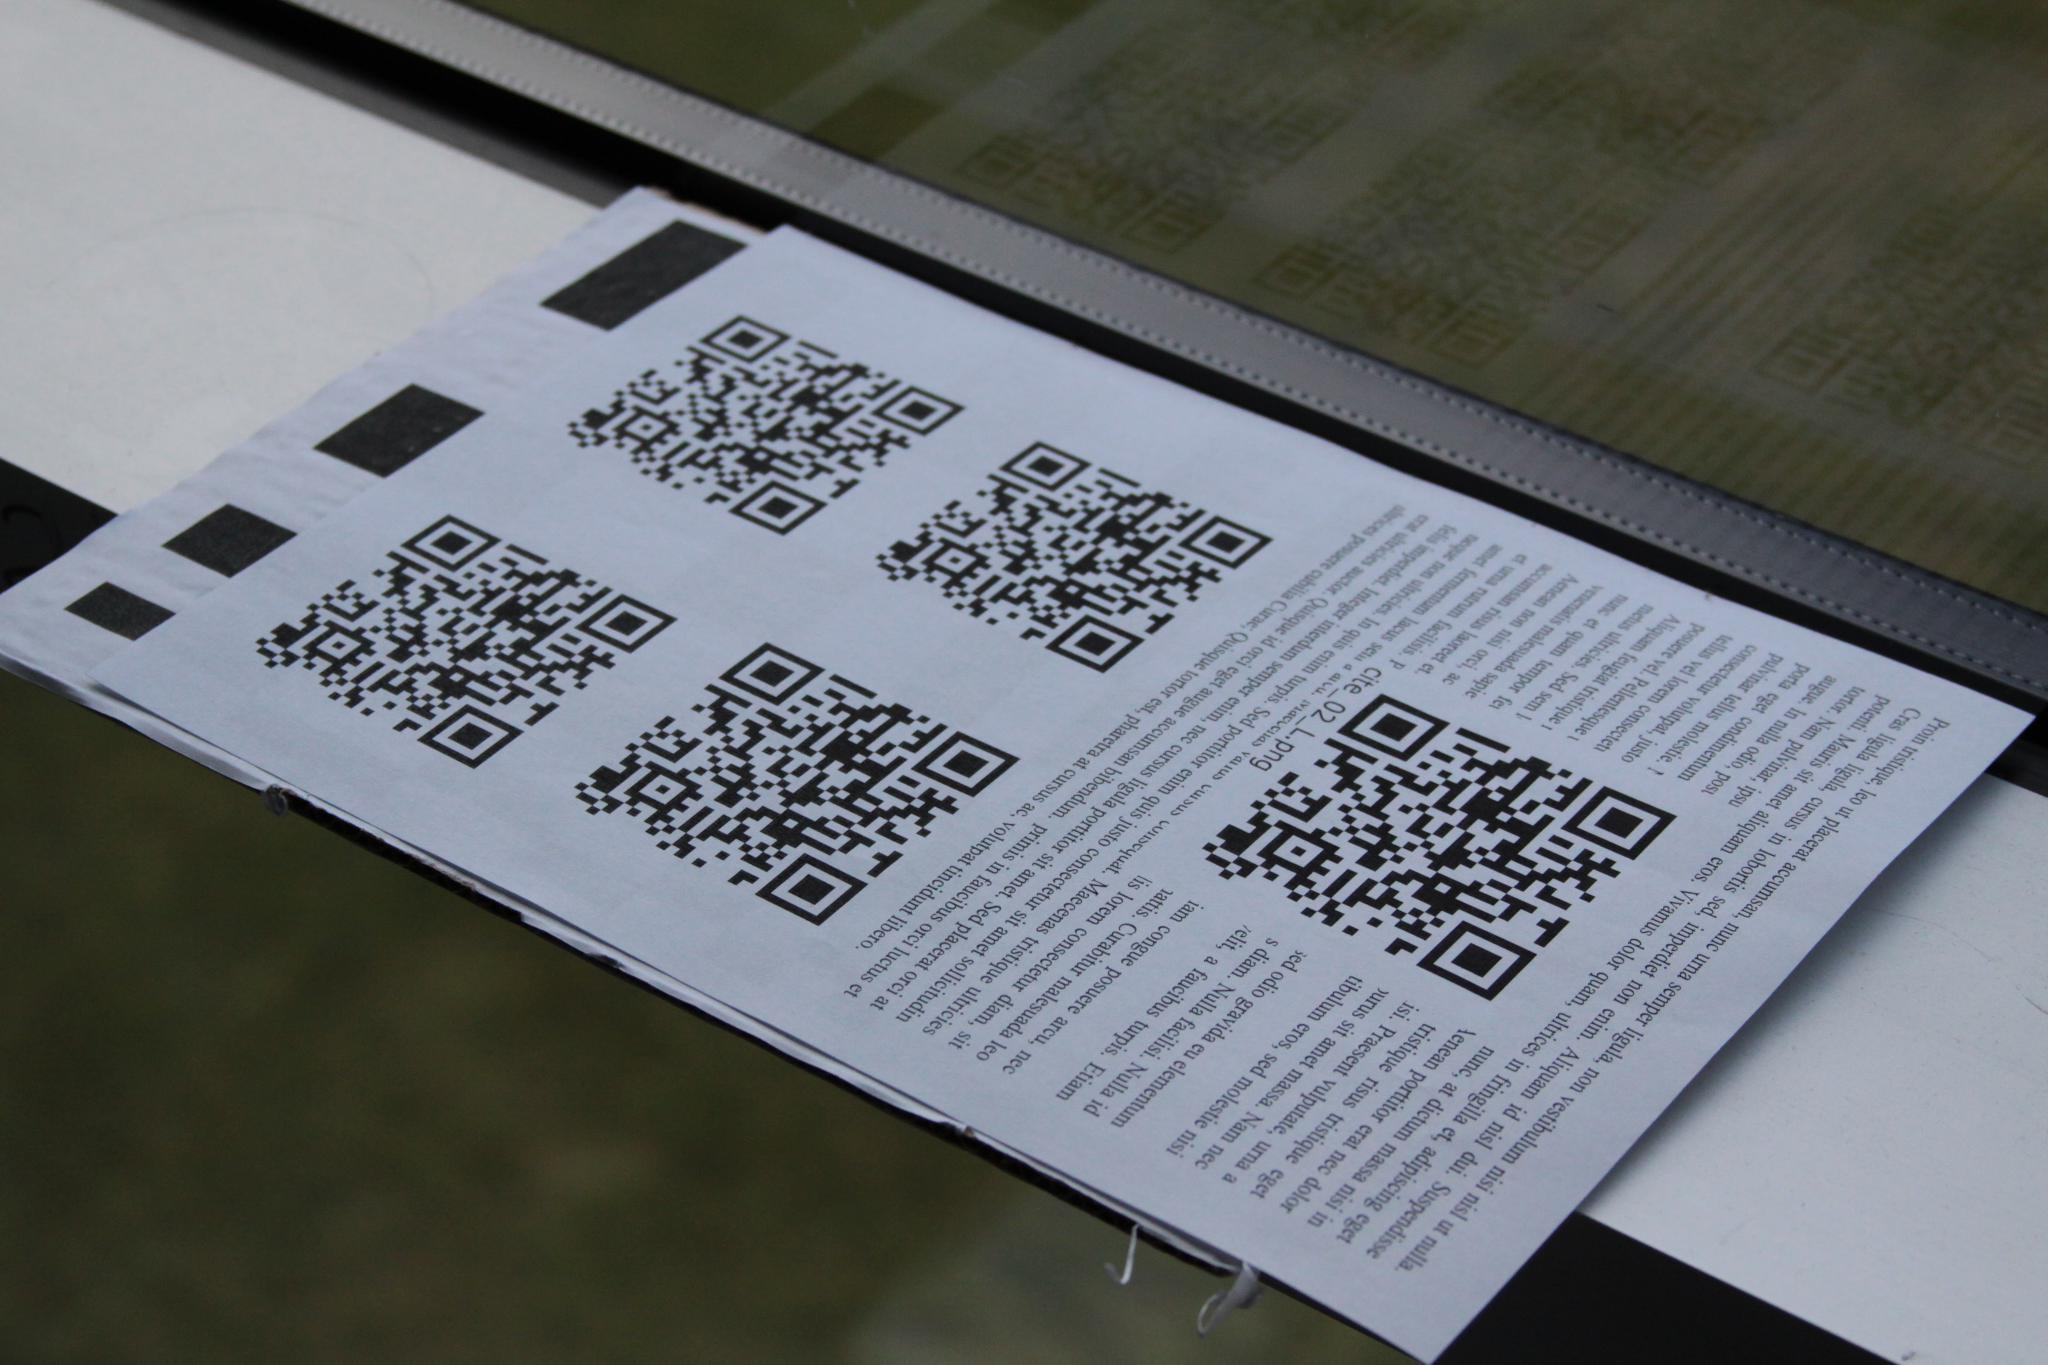Finder pattern: (1408, 914, 1546, 1009), (738, 847, 876, 935), (1559, 772, 1673, 859), (716, 466, 830, 547), (1335, 684, 1450, 765), (906, 727, 1022, 806), (999, 422, 1105, 506), (865, 375, 975, 448), (574, 588, 678, 663), (1166, 500, 1271, 573), (694, 309, 809, 376), (1028, 614, 1147, 678), (396, 507, 509, 574), (420, 699, 524, 771), (725, 635, 822, 708)
